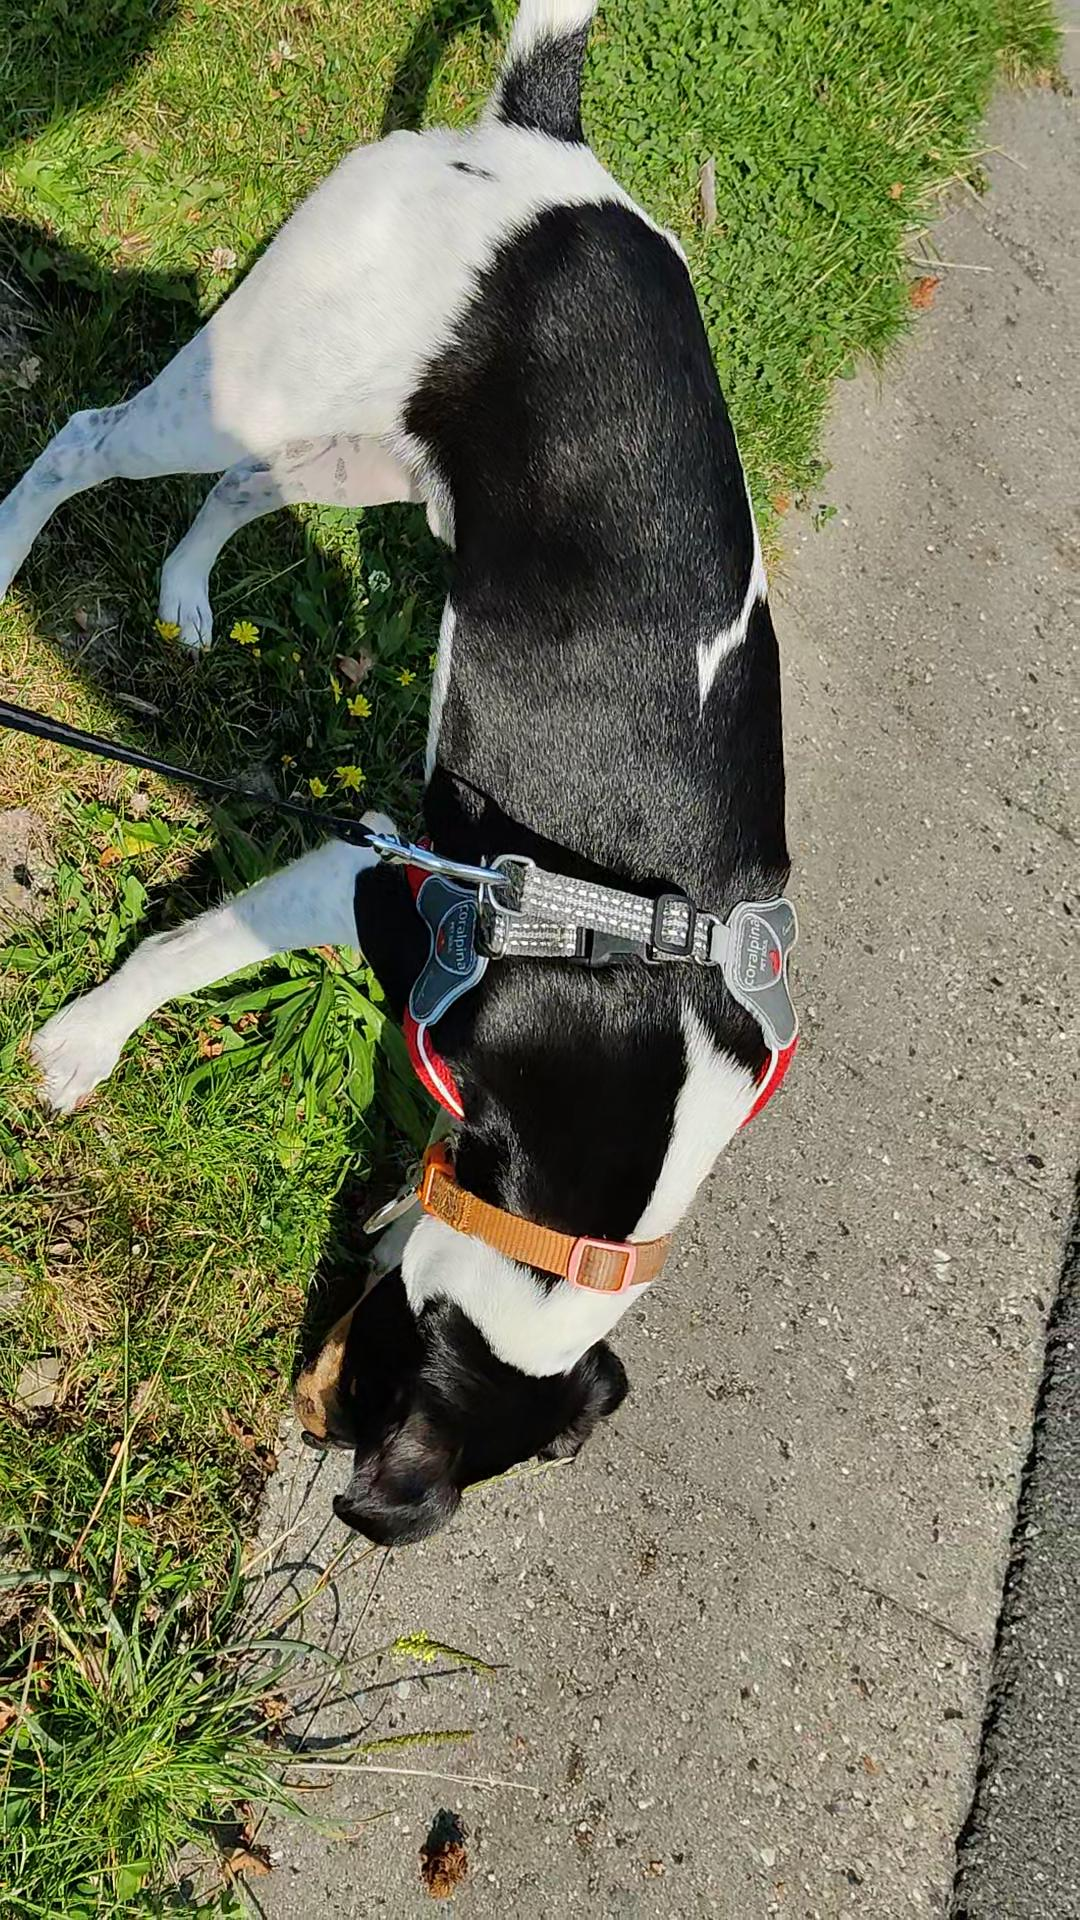Dog: (0, 0, 804, 1549)
